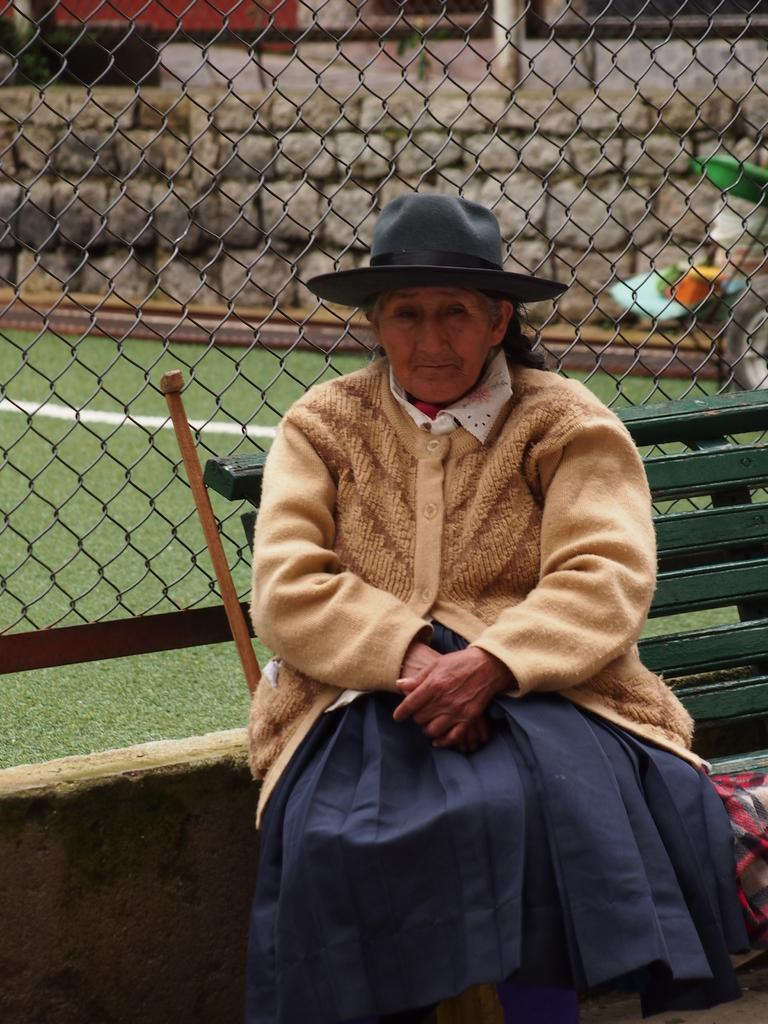Hat: (302, 194, 568, 308)
